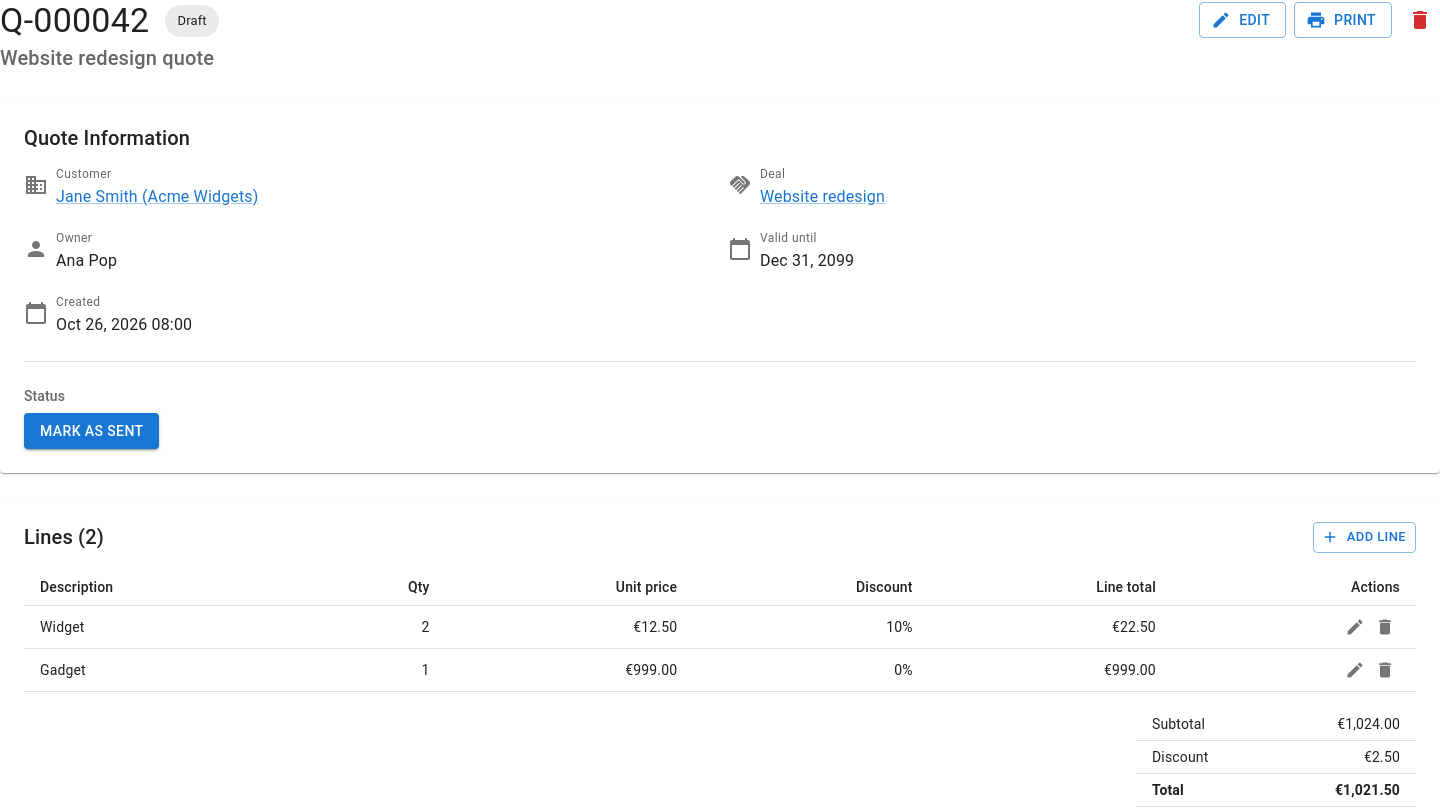
QuoteDetail › offers Add line on a draft and submits discount_bp 1250 for 12.5 percent
Expected: the heading "Q-000042" is shown, [0, 0, 150, 42]
Click the button "Add line": (1364, 537) [1313, 522, 1416, 553]
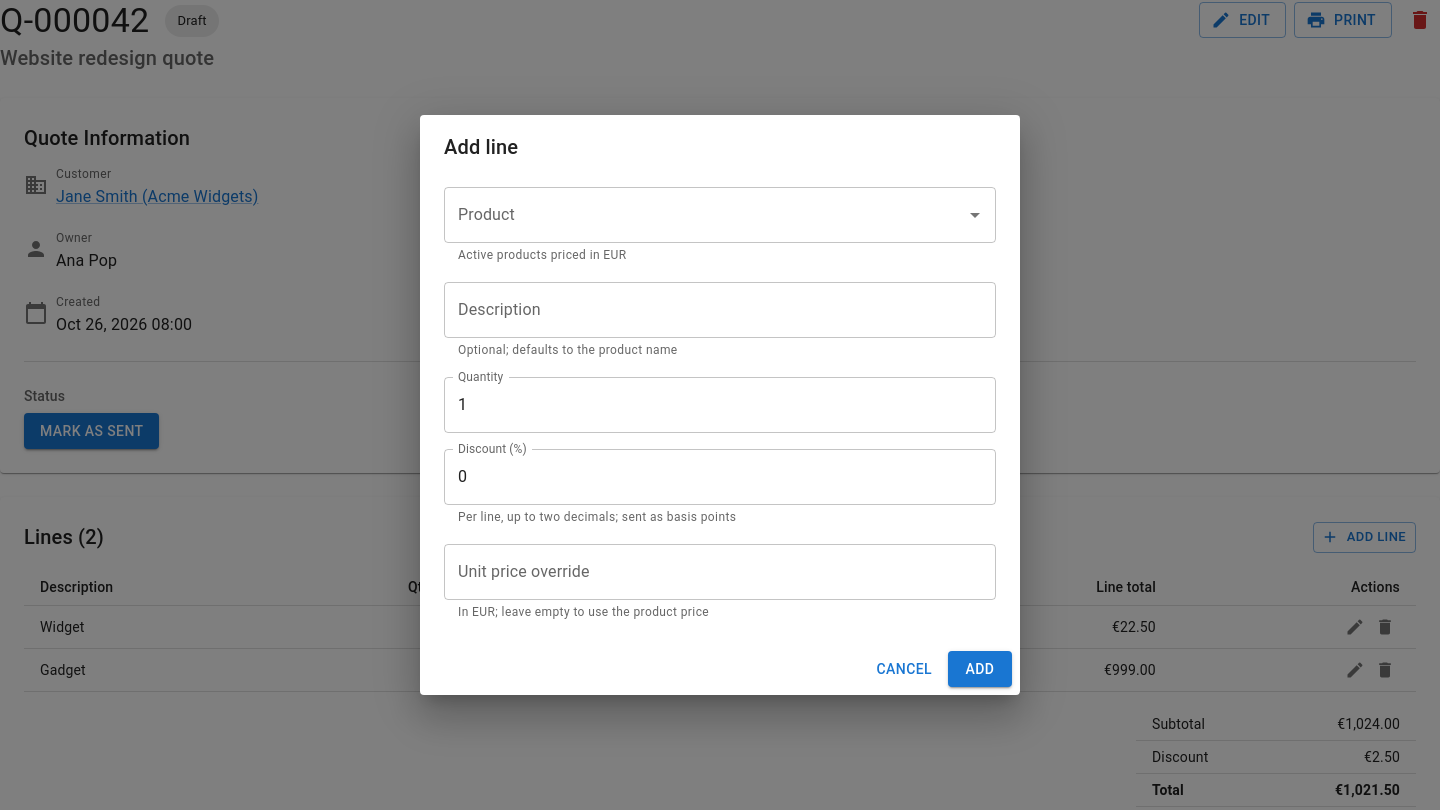
Press the mouse on the dropdown labelled "Product": (705, 215) [453, 196, 957, 234]
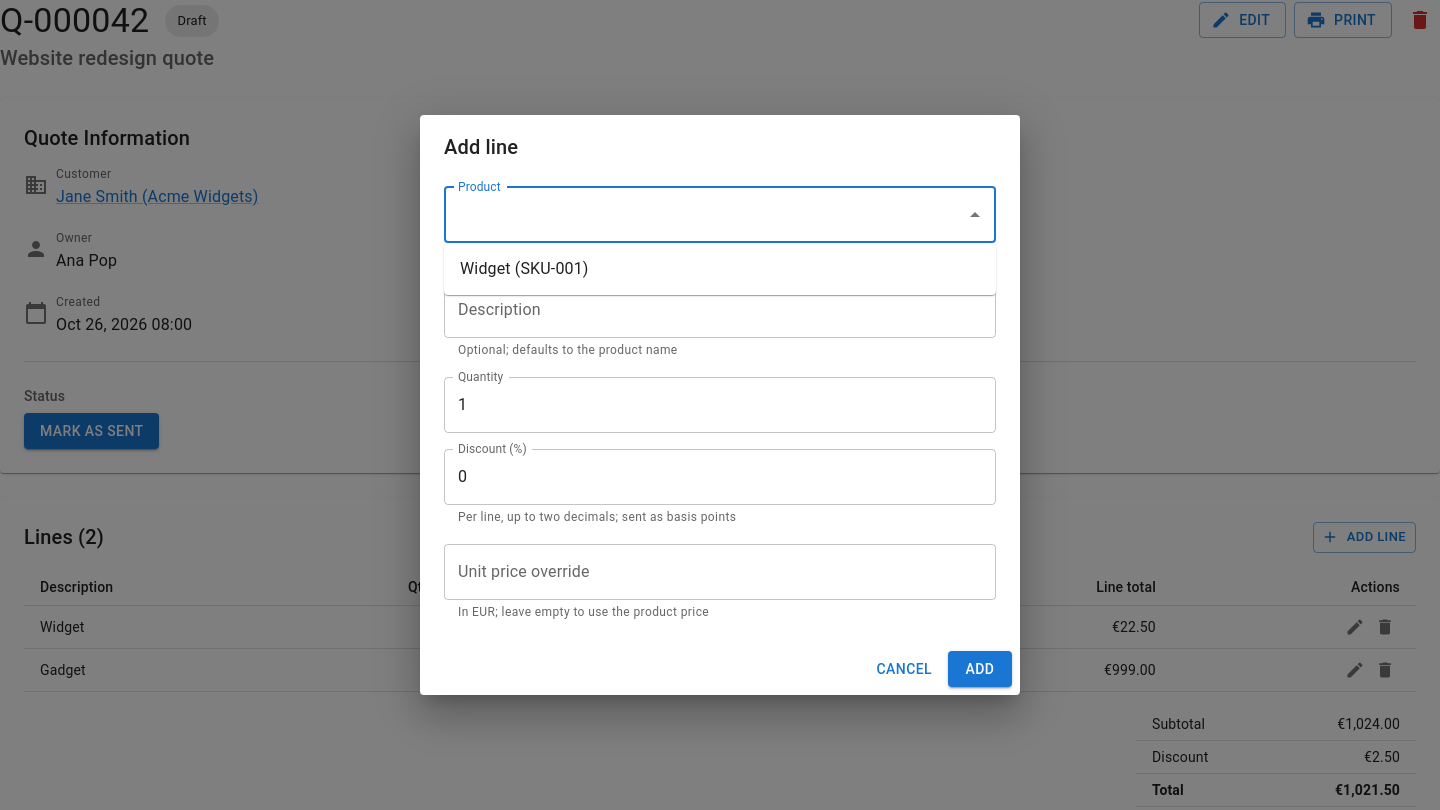
Click the option "Widget (SKU-001)": (524, 268) [460, 259, 588, 278]
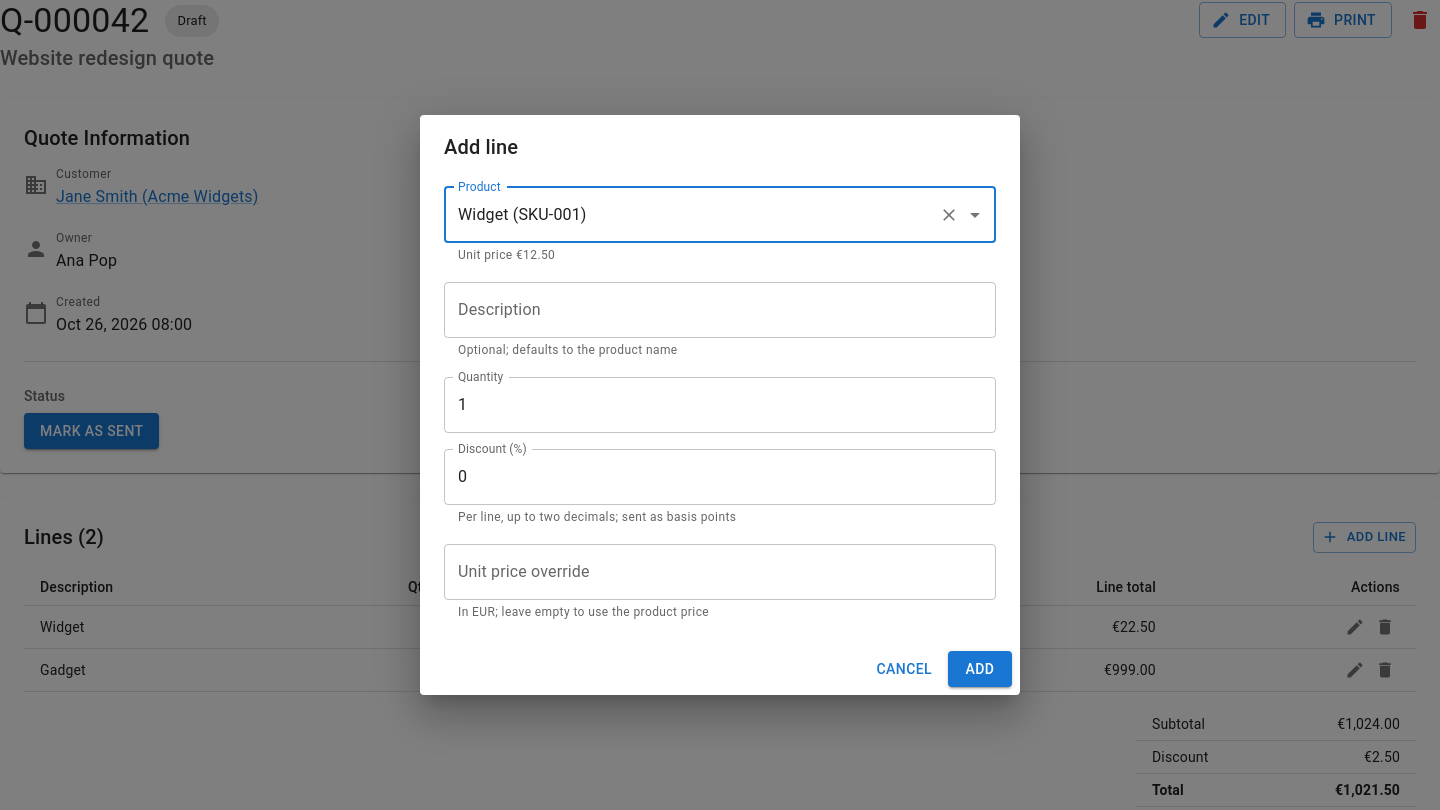
Now the dropdown labelled "Product" holds "Widget (SKU-001)", box [453, 196, 931, 234]
Replace the text in the number field labelled "Quantity" with "2": (720, 405) [444, 377, 996, 433]
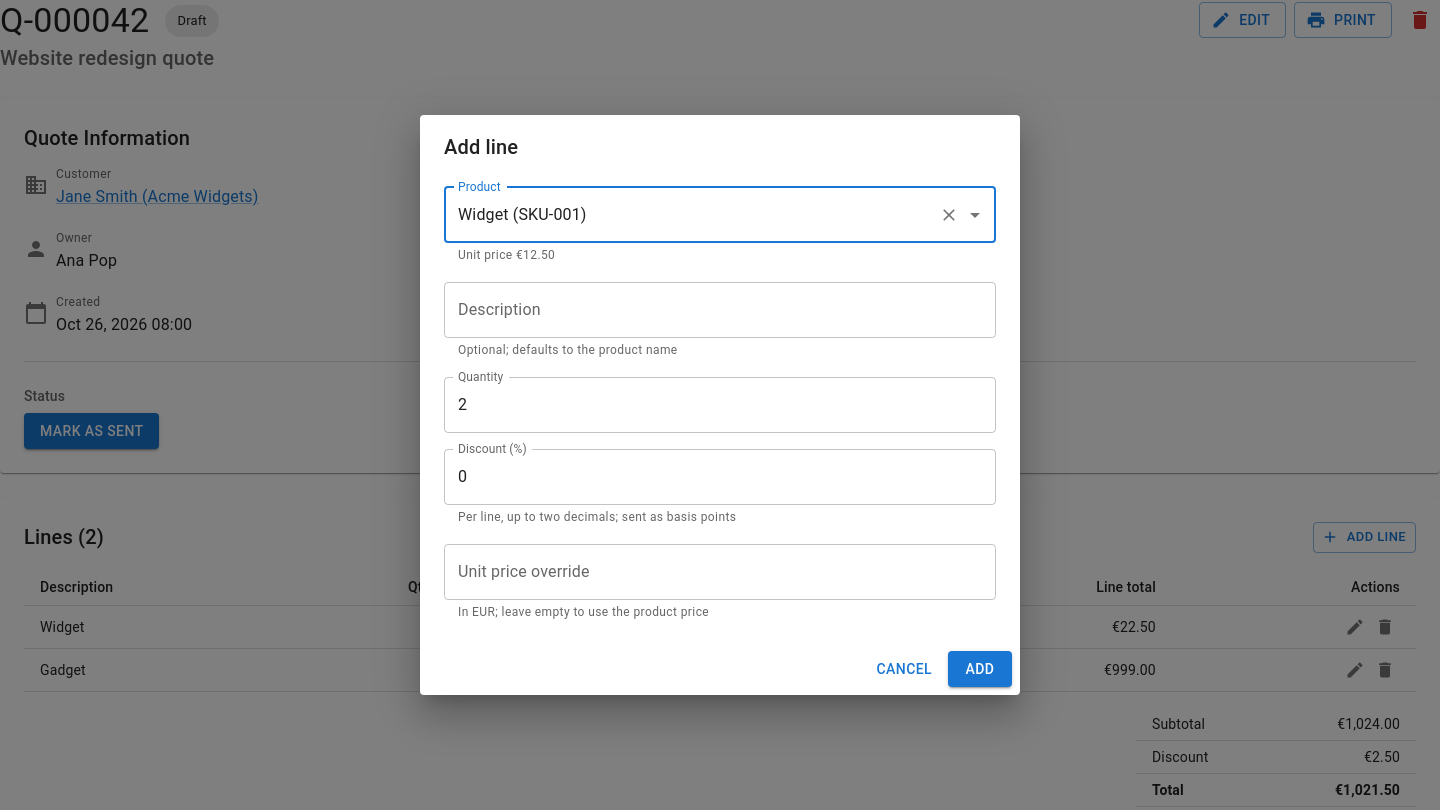
Replace the text in the field labelled "Discount (%)" with "12.5": (720, 477) [444, 449, 996, 505]
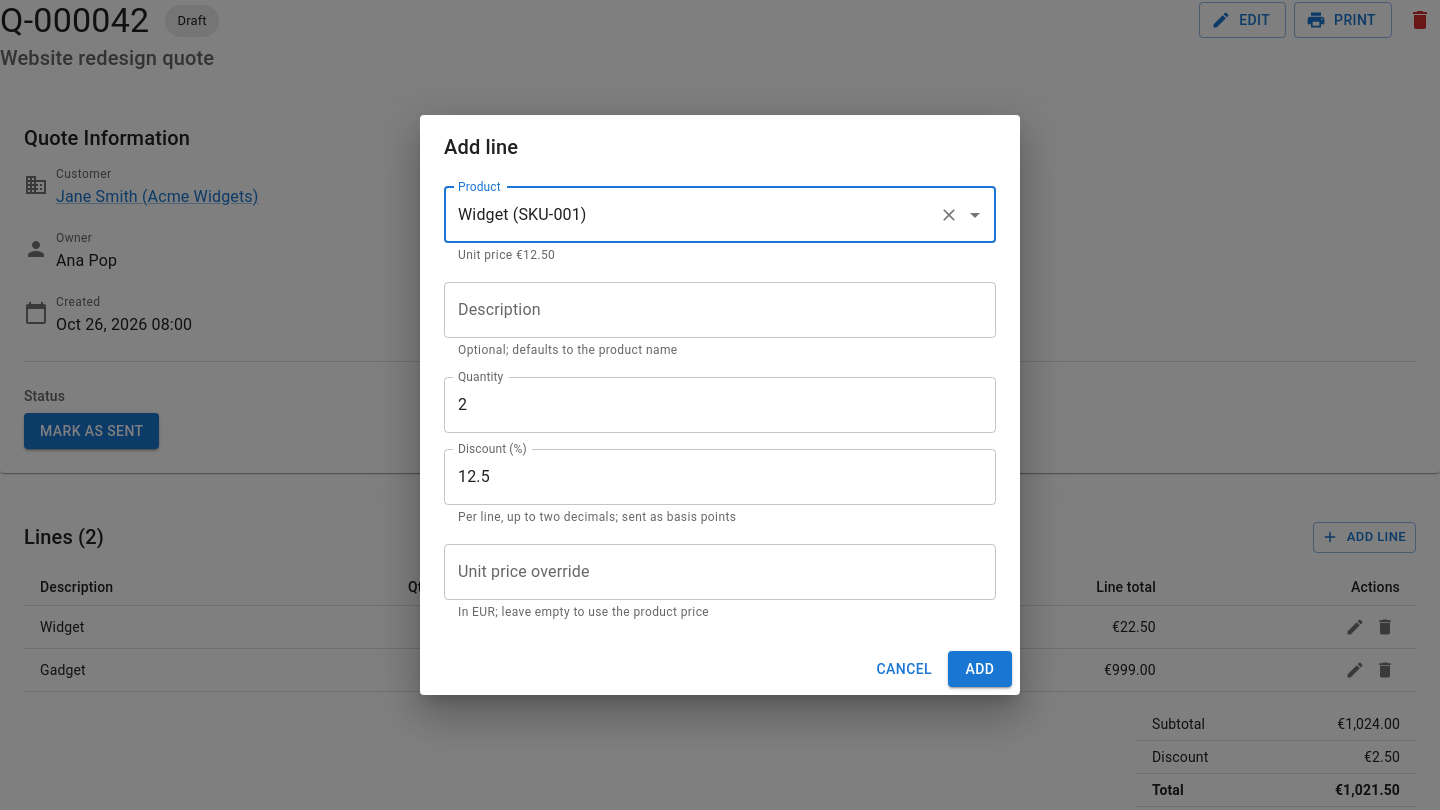
Click the button "Add": (980, 669) [948, 651, 1012, 687]
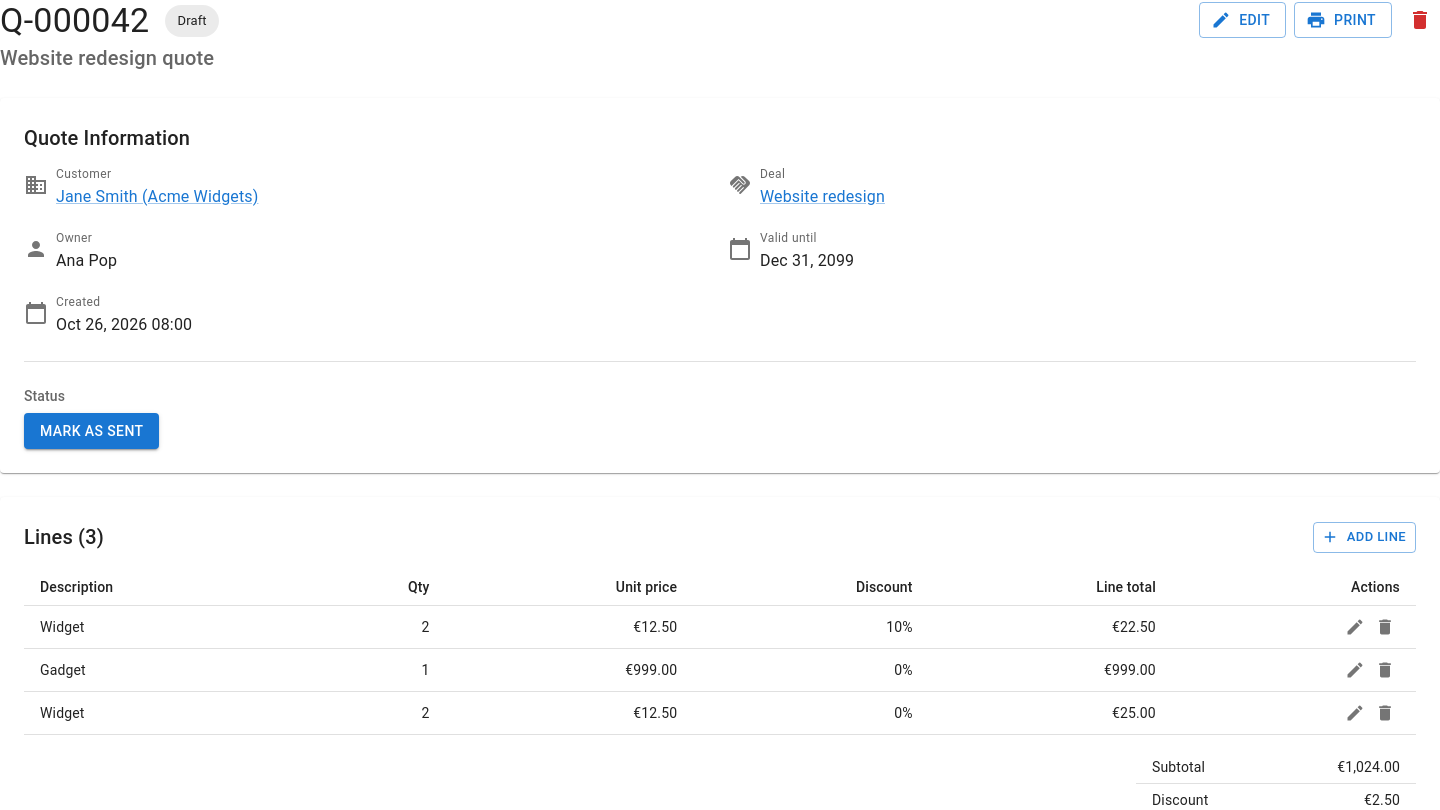
Now the number of rows with test id "quote-line-row" is 3, box [24, 606, 1416, 649]; [24, 649, 1416, 692]; [24, 692, 1416, 735]
